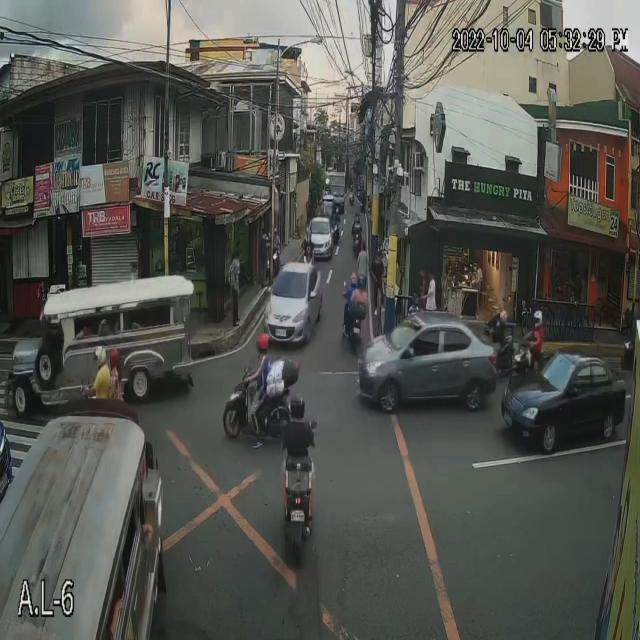Full-Faced: (284, 390, 308, 421), (102, 344, 120, 370), (90, 341, 107, 368), (530, 306, 544, 328), (302, 224, 314, 238), (350, 268, 358, 284), (353, 208, 361, 221)
Half-Faced: (248, 330, 270, 362)
